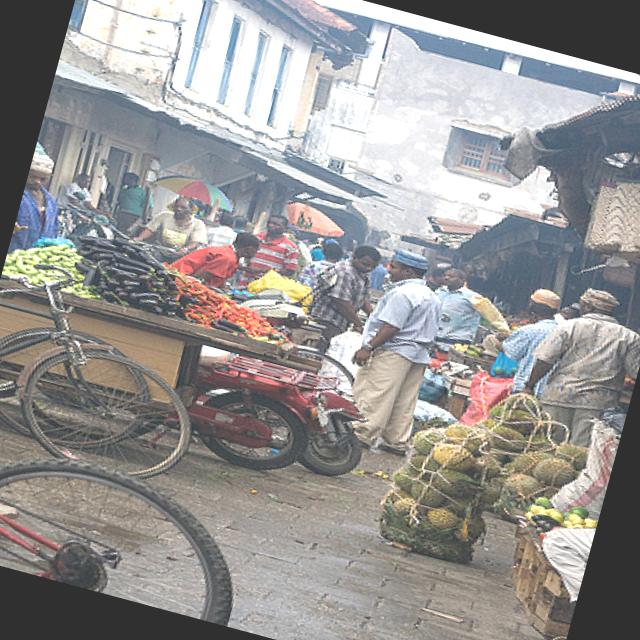Vehicle: (175, 346, 338, 483), (278, 368, 379, 483)
